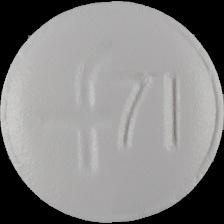63629-5216: (0, 0, 224, 224)
